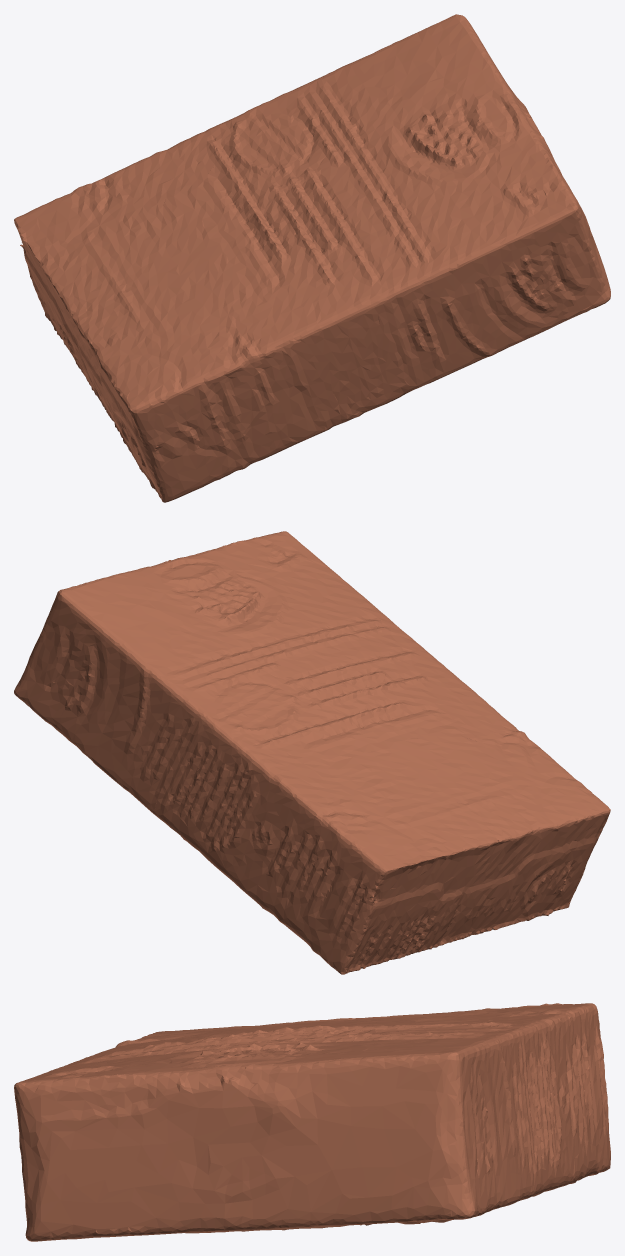
The model's file is HotPot_25k5.fbx.
3 renders of one model, top to bottom at view 1: azimuth 30°, elevation 25°; view 2: azimuth 150°, elevation 25°; view 3: azimuth 270°, elevation 25°, orthographic. The views are drawn at different scales.
Parts seen in each view (by area): view 1: HotPot_25k5; view 2: HotPot_25k5; view 3: HotPot_25k5.
Part boxes in pixels (left/top/right/bottom): HotPot_25k5: left=14, top=14, right=610, bottom=502; HotPot_25k5: left=14, top=531, right=610, bottom=974; HotPot_25k5: left=14, top=1003, right=610, bottom=1241.
Bounding box in the file's own units: 3803 × 2285 × 3199.
